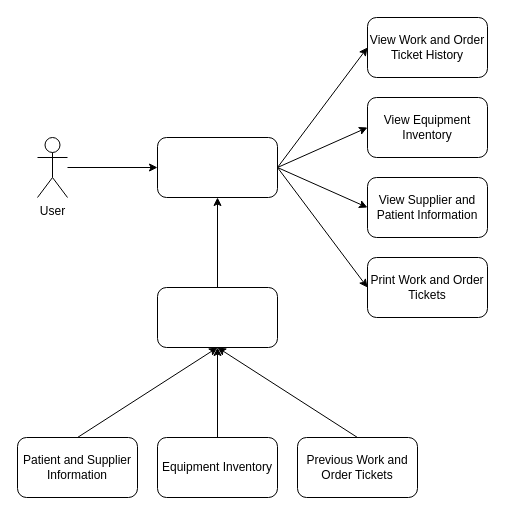
Some shapes in this 505 by 515 pixel diagram are drawn without their labels. Here are the shapes that lost their labels. From the top down, the centre of each, then its label:
At pixel 217 167: "System".
At pixel 217 317: "Database".
